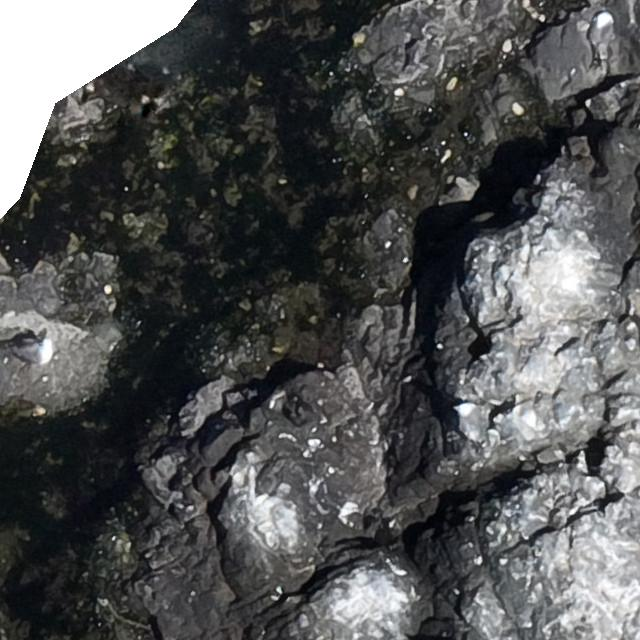umineko: (11, 339, 54, 365), (592, 14, 610, 47)
